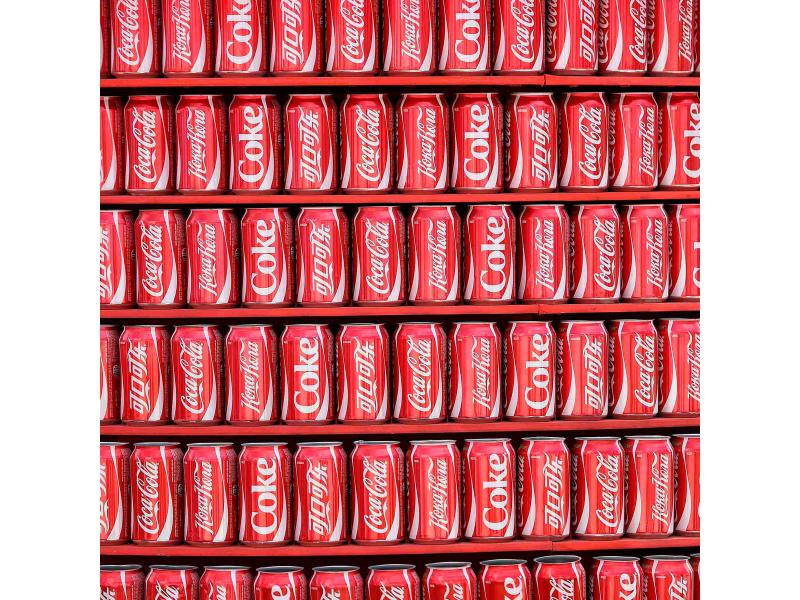can: (348, 433, 407, 545), (292, 435, 351, 543), (446, 317, 505, 423), (334, 317, 393, 422), (128, 437, 185, 545), (502, 317, 561, 421), (337, 86, 394, 192), (279, 320, 336, 425), (448, 90, 507, 191), (407, 436, 462, 542), (294, 204, 349, 309), (461, 435, 516, 539), (222, 320, 279, 420), (168, 320, 225, 420), (236, 440, 290, 545), (393, 88, 448, 191), (172, 90, 228, 191), (505, 88, 559, 192), (183, 205, 239, 305), (185, 440, 237, 546), (228, 92, 282, 194), (119, 320, 170, 427), (406, 200, 458, 304), (625, 433, 677, 536), (393, 317, 443, 424), (464, 204, 519, 301), (520, 435, 570, 540), (283, 91, 334, 193), (354, 204, 407, 302), (620, 201, 671, 302), (610, 313, 660, 416), (240, 205, 290, 307), (574, 434, 622, 537), (135, 208, 182, 313), (518, 204, 568, 300), (561, 90, 608, 192), (559, 315, 606, 416), (574, 204, 622, 302), (439, 0, 495, 82), (123, 93, 168, 195), (611, 90, 656, 187), (379, 2, 434, 80), (265, 2, 323, 75), (598, 0, 652, 77), (662, 88, 702, 187), (494, 2, 548, 74), (322, 2, 380, 69), (660, 315, 698, 414), (649, 2, 699, 77), (549, 0, 598, 76), (161, 0, 210, 75), (217, 1, 264, 75), (110, 0, 157, 74), (99, 208, 133, 310), (100, 441, 130, 543), (671, 200, 700, 302), (675, 433, 700, 536), (478, 555, 531, 600), (422, 559, 480, 599), (532, 557, 587, 599), (646, 553, 696, 598), (102, 92, 123, 196), (591, 557, 642, 599), (143, 566, 201, 600), (201, 563, 254, 600), (365, 562, 418, 598), (309, 564, 366, 597), (254, 565, 308, 597), (102, 567, 140, 600)
